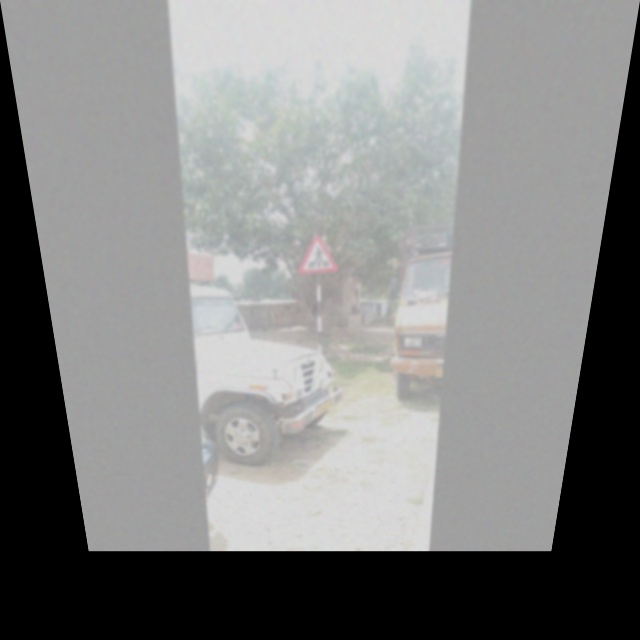Pedestrian_Crossing: (292, 225, 349, 277)
